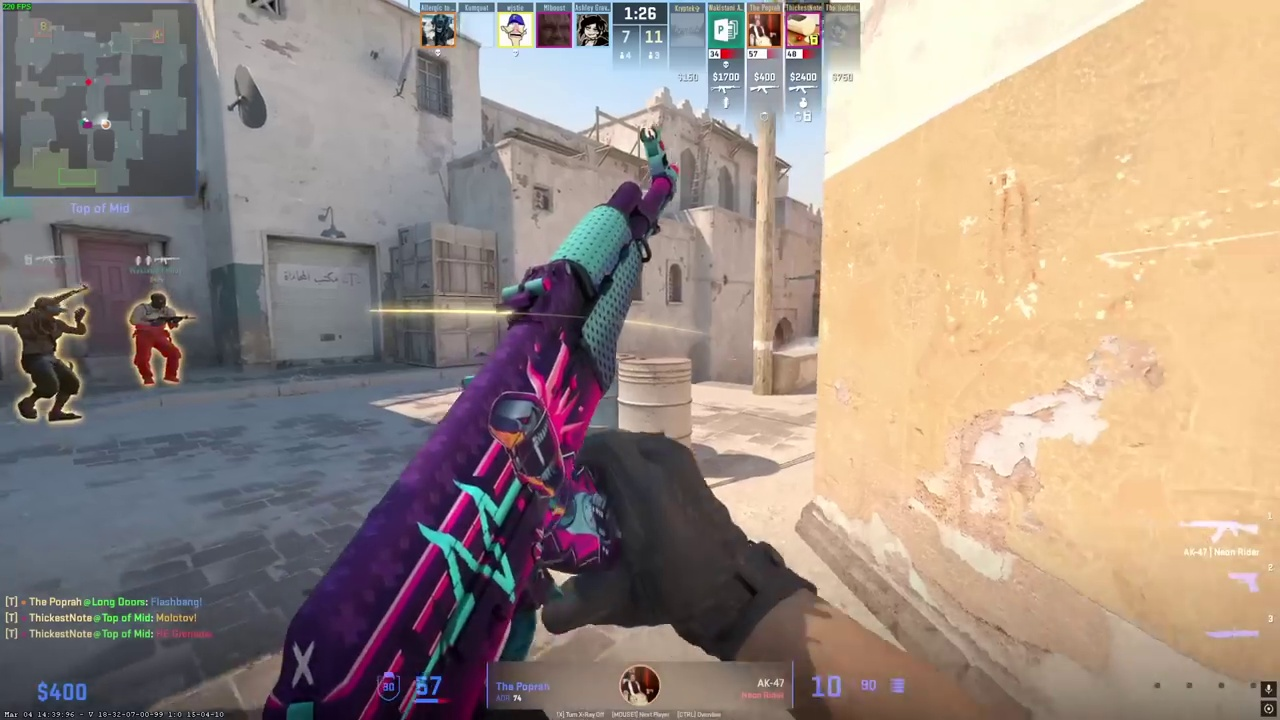Terrorist: (13, 297, 87, 421), (130, 293, 182, 384)
